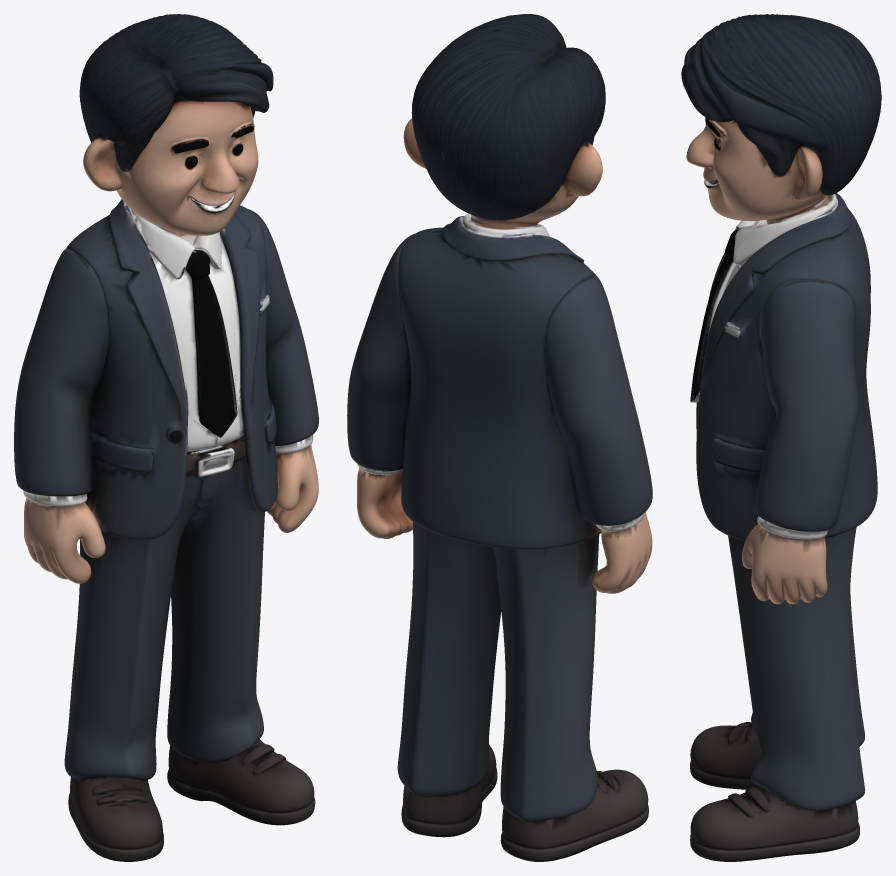
Rendered from male-player.glb.
3 views of the same model, side by side, from view 1: azimuth 30°, elevation 25°; view 2: azimuth 150°, elevation 25°; view 3: azimuth 270°, elevation 25° (orthographic).
Parts seen in each view (by area): view 1: node_0; view 2: node_0; view 3: node_0.
Part boxes in pixels (x1,y1,x2,y2): node_0: (14, 14, 318, 861); node_0: (347, 14, 652, 861); node_0: (681, 14, 881, 861).
Size of the model in its own units: 0.445 by 1.15 by 0.2632.
Materials: 1 (1 with a texture image).
